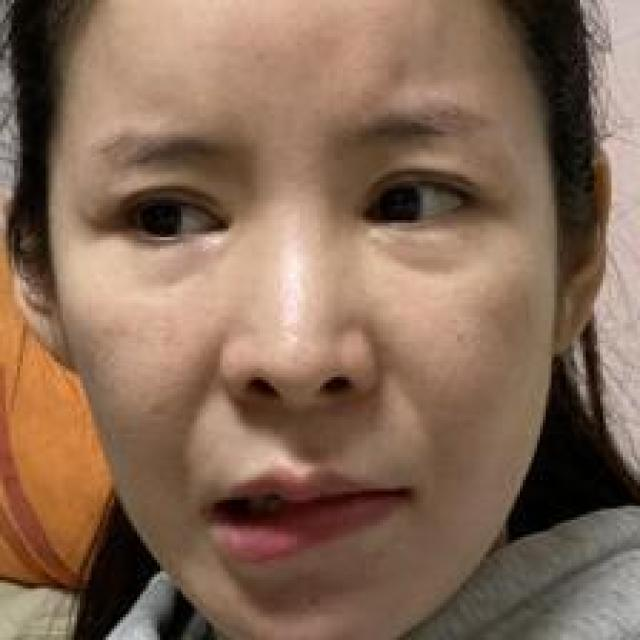fear: (86, 74, 523, 582)
